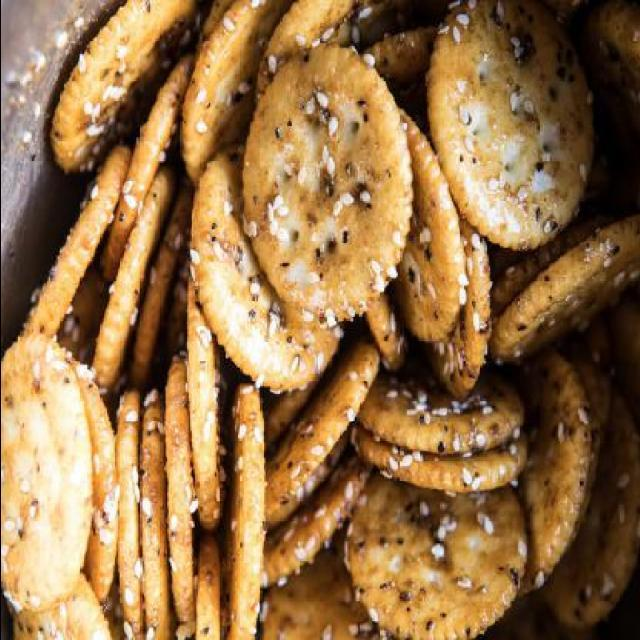Ritz cracker packaged: (17, 21, 620, 617)
